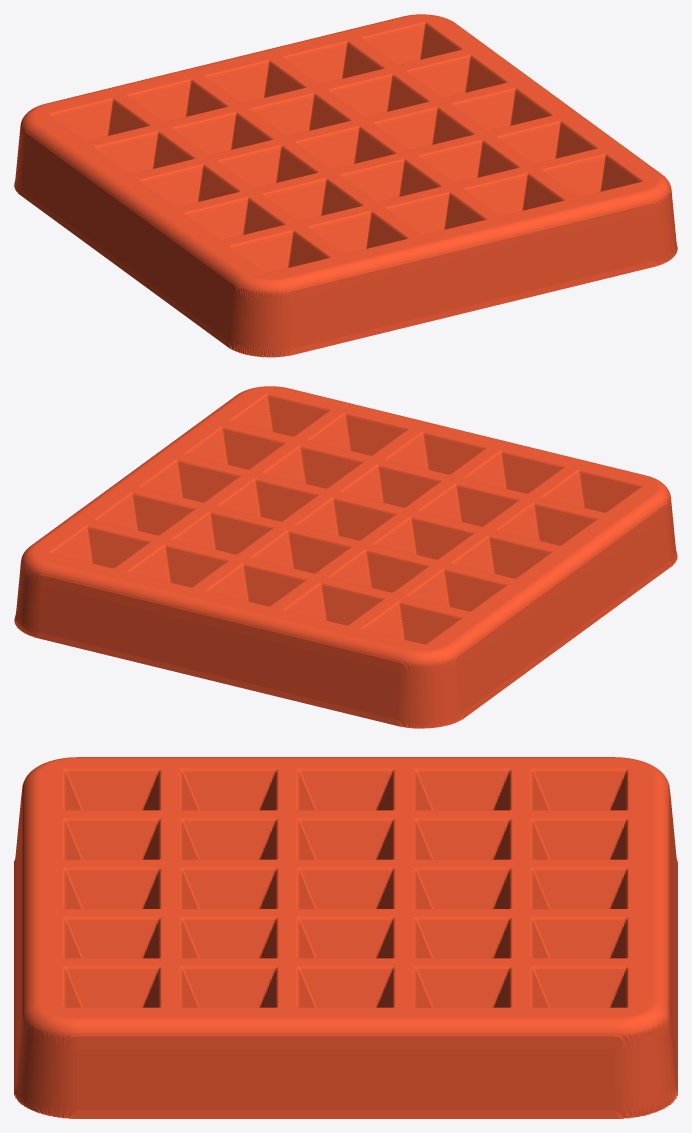
The model's file is mold.glb.
3 views of the same model, one above another, from view 1: azimuth 30°, elevation 25°; view 2: azimuth 150°, elevation 25°; view 3: azimuth 270°, elevation 25° (orthographic). The views are drawn at different scales.
Visible parts, largest first — view 1: geometry_0; view 2: geometry_0; view 3: geometry_0.
Boxes of the visible parts, x1,y1,x2,y2 form: geometry_0: (14, 14, 677, 357); geometry_0: (14, 386, 677, 728); geometry_0: (14, 757, 677, 1118).
Bounding box in the file's own units: 0.0936 × 0.014 × 0.0936.
